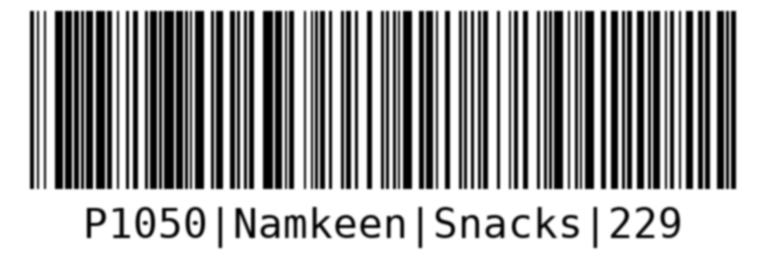milk: (23, 4, 741, 255)
